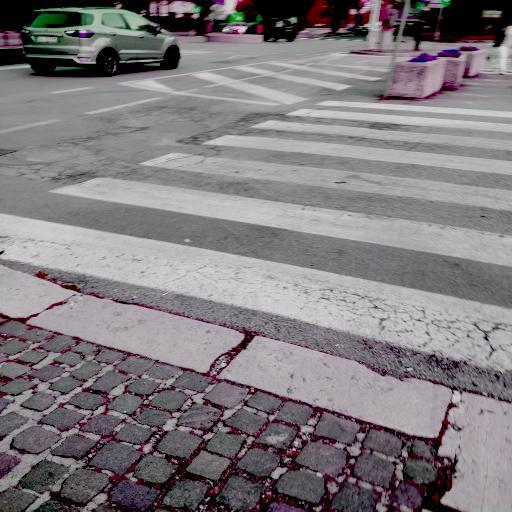crosswalk: (132, 131, 511, 219)
